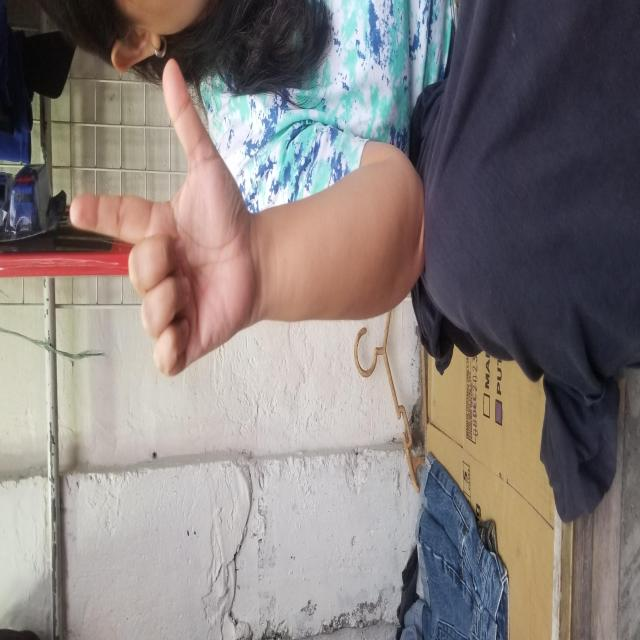L: (263, 70, 582, 252)
